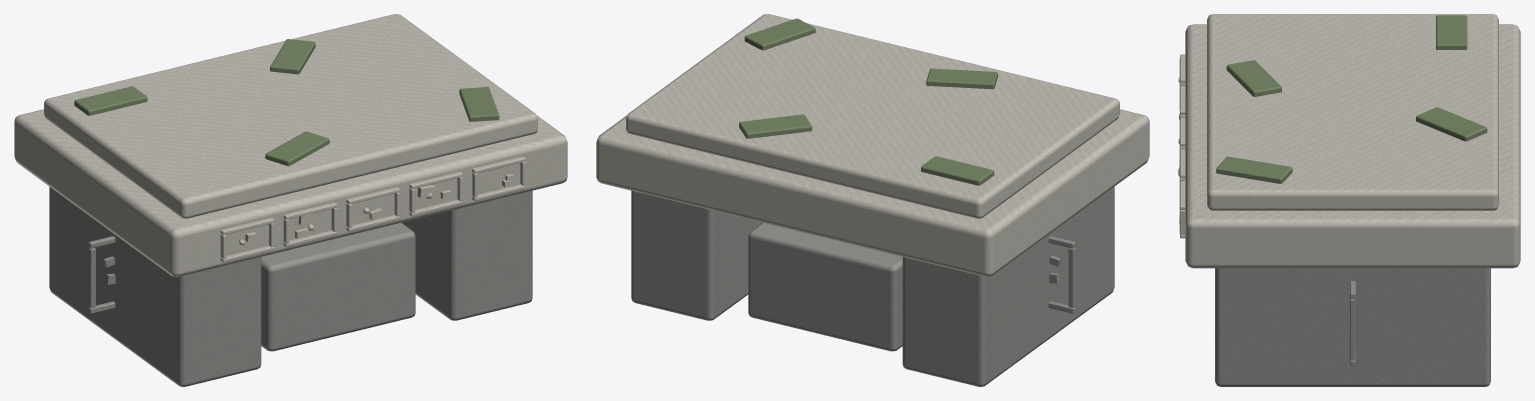
Rendered from jungle-temple-and-stone-city-altar-stone-47ef46f0__36126.glb.
The picture shows the model from 3 angles, left to right: view 1: azimuth 30°, elevation 25°; view 2: azimuth 150°, elevation 25°; view 3: azimuth 270°, elevation 25°; orthographic projection. The views are drawn at different scales.
Parts seen in each view (by area): view 1: altar-stone; view 2: altar-stone; view 3: altar-stone.
Part boxes in pixels (bbox=[...]): altar-stone: bbox=[14, 14, 567, 386]; altar-stone: bbox=[596, 14, 1149, 386]; altar-stone: bbox=[1178, 14, 1520, 386].
Size of the model in its own units: 2.44 by 1.14 by 1.74.
3 materials, 3 textured.
